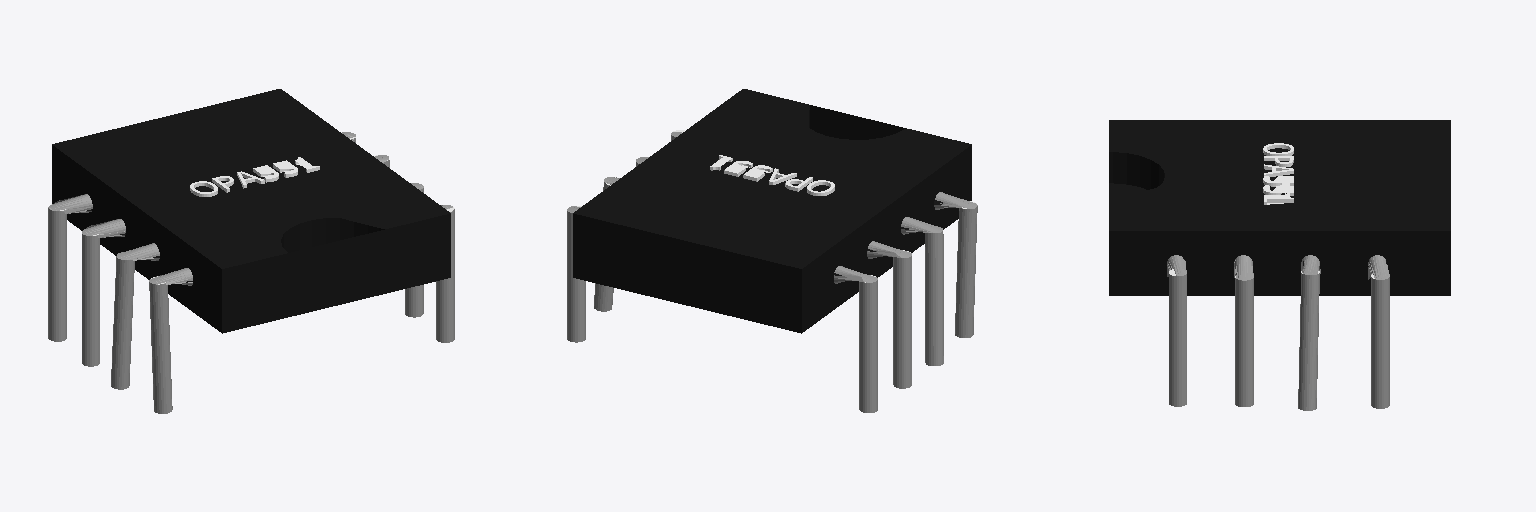
File: opamp.obj
3 renders of one model, left to right at view 1: azimuth 30°, elevation 25°; view 2: azimuth 150°, elevation 25°; view 3: azimuth 270°, elevation 25°, orthographic.
Visible parts, largest first — view 1: Mesh7 Model; view 2: Mesh7 Model; view 3: Mesh7 Model.
Boxes of the visible parts, <box> form: Mesh7 Model: <box>48,89,454,413</box>; Mesh7 Model: <box>567,89,977,412</box>; Mesh7 Model: <box>1109,120,1450,410</box>.
Size of the model in its own units: 4779 by 2339 by 4428.